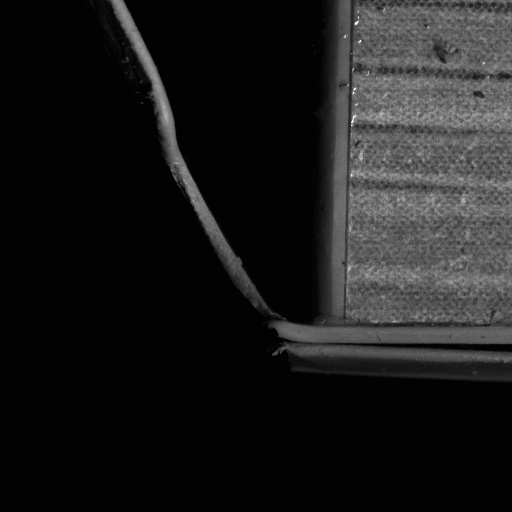kaijiao: (104, 0, 340, 347), (276, 323, 511, 366)
